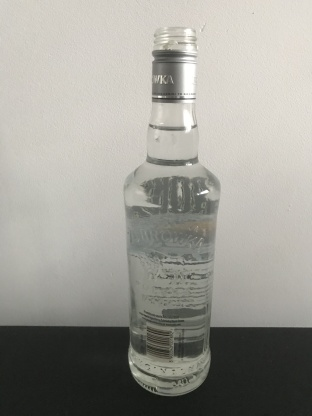nakretka: (149, 26, 199, 103)
